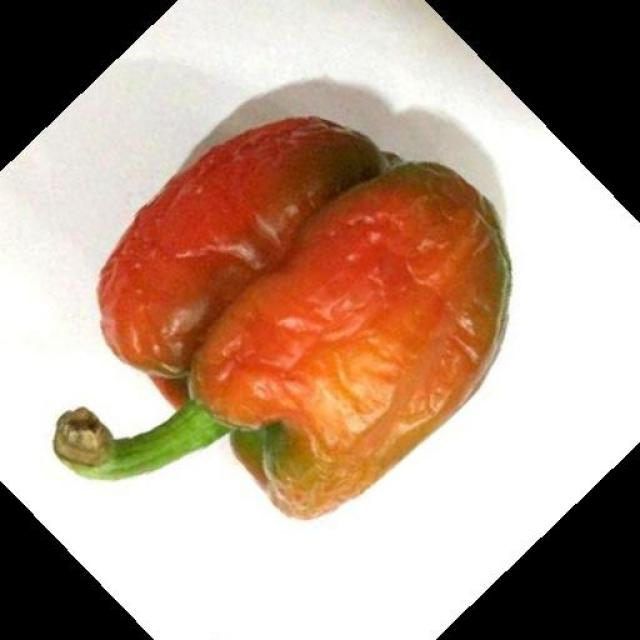Stale_Capsicum: (91, 95, 574, 513)
